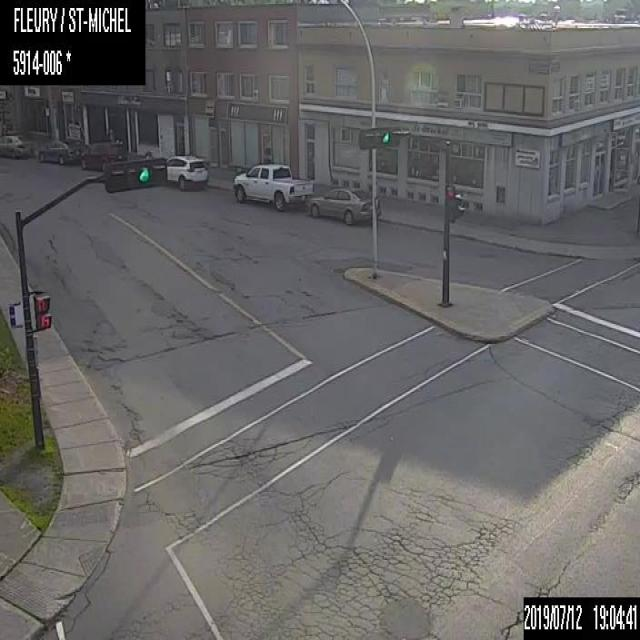vehicle: (231, 160, 314, 213), (308, 185, 380, 225), (78, 134, 128, 170), (165, 153, 208, 191), (35, 137, 83, 166), (0, 132, 34, 157)
